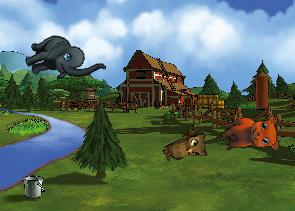bear: (217, 108, 284, 164)
elephant: (19, 19, 106, 100)
owl: (160, 127, 214, 173)
